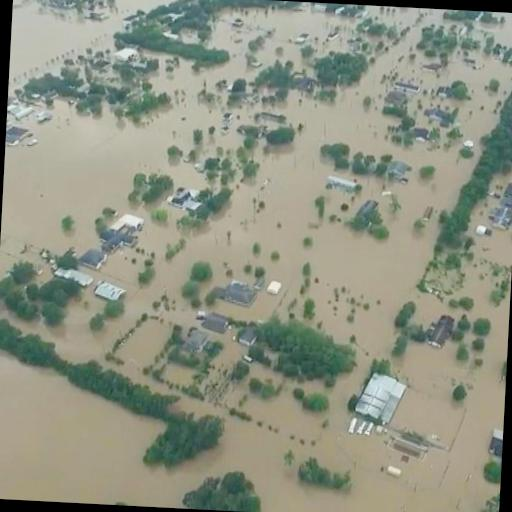flood: (0, 351, 500, 512)
house: (350, 372, 412, 423), (416, 23, 452, 58), (324, 174, 362, 202), (428, 313, 455, 350), (222, 284, 256, 307), (110, 213, 144, 235), (93, 280, 125, 302), (488, 426, 504, 464), (184, 330, 208, 352), (80, 248, 106, 268), (114, 46, 142, 63), (492, 207, 512, 230), (206, 312, 228, 332), (387, 160, 408, 180), (392, 81, 420, 94), (238, 331, 254, 347)
